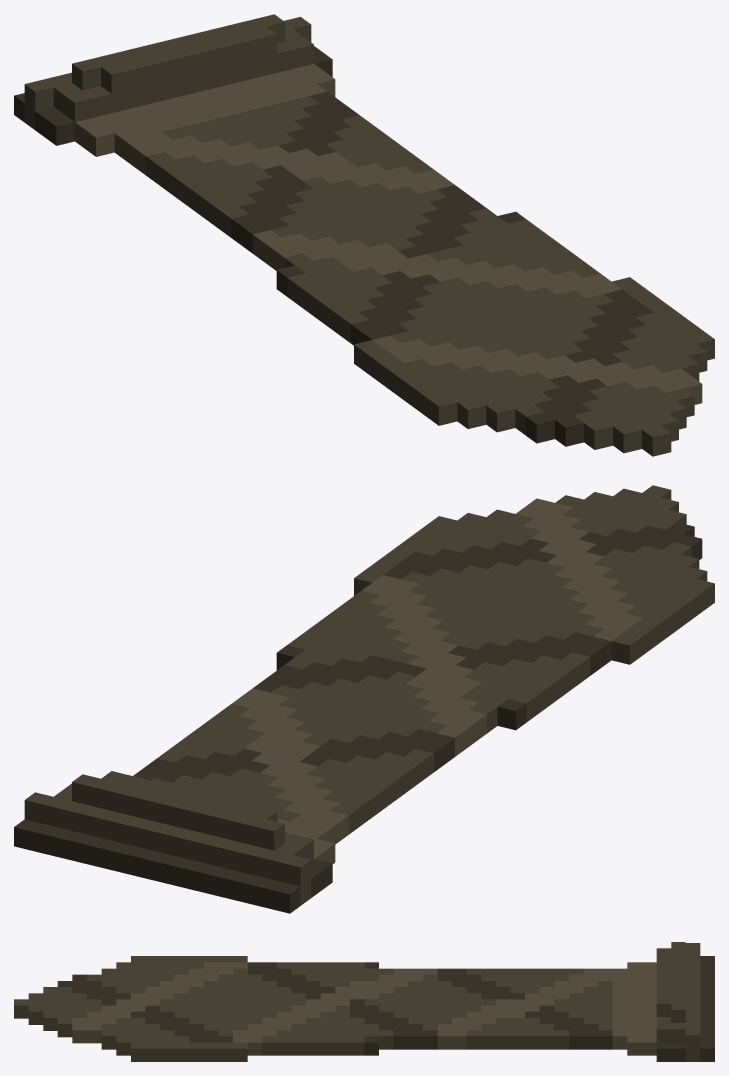
The model's file is Galstyk.obj.
The picture shows the model from 3 angles, top to bottom: view 1: azimuth 30°, elevation 25°; view 2: azimuth 150°, elevation 25°; view 3: azimuth 270°, elevation 25°; orthographic projection. The views are drawn at different scales.
Size of the model in its own units: 1.5 by 0.3 by 4.8.
1 material, 1 textured.
